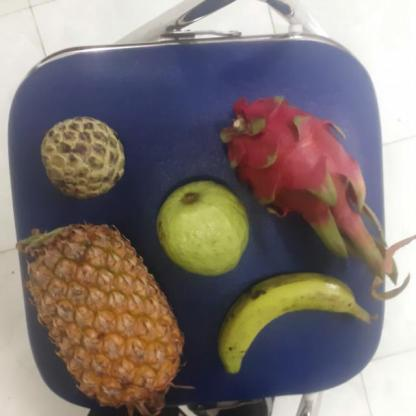annona: (41, 116, 129, 197)
guava: (156, 179, 254, 273)
pineapple: (26, 223, 184, 407)
pitaya: (226, 91, 367, 227)
